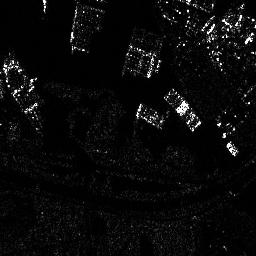ship: (163, 85, 204, 130), (134, 101, 166, 130), (122, 56, 154, 79), (126, 43, 157, 64)
